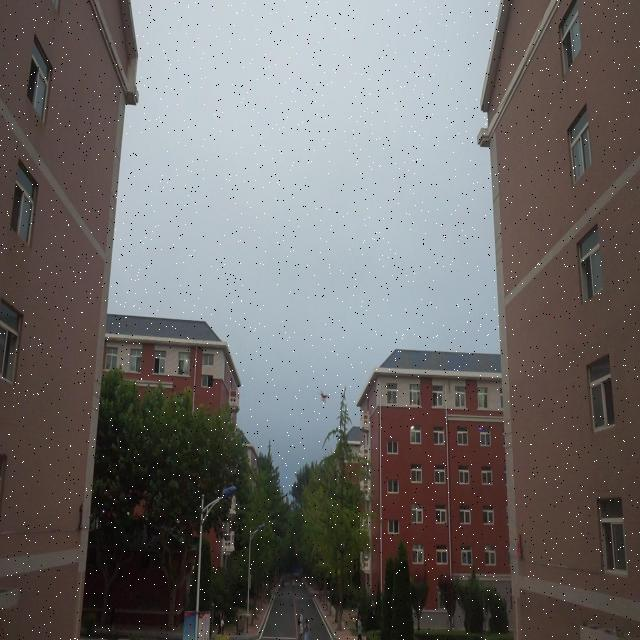UAV: (320, 390, 329, 403)
